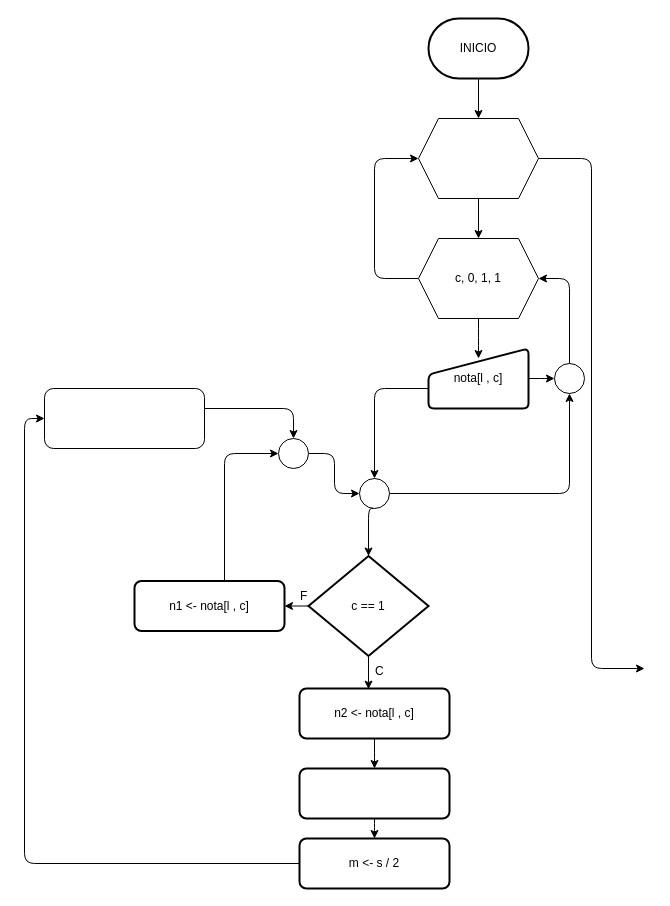
Image size: 670x906. Some labels were removed from this diagram. Here are the shapes that lost their labels. From the top down, the centre of each, then its label:
At [478,158]: "l, 0, 5, 1".
At [124,418]: "nota[l, 2] = m".
At [374,793]: "s = n1 + n2".
